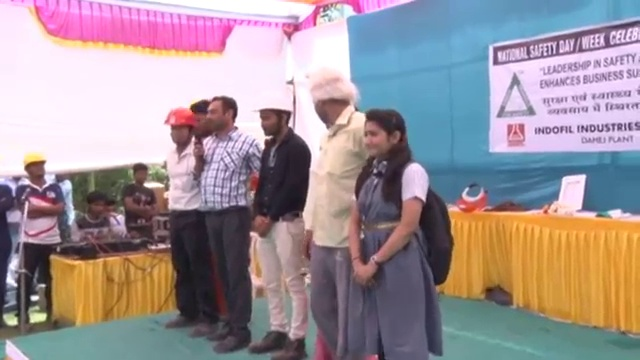helmet: (251, 93, 294, 115), (160, 105, 198, 129), (24, 150, 50, 174)
helmet_off: (352, 109, 411, 172), (300, 68, 358, 129), (206, 98, 240, 135), (78, 190, 109, 222), (190, 99, 210, 138), (127, 164, 147, 190), (55, 170, 71, 185)
helmet_on: (251, 93, 295, 138), (160, 105, 197, 156), (23, 152, 48, 187)
person: (343, 110, 452, 360), (298, 67, 368, 360), (200, 94, 265, 350), (248, 94, 312, 348), (159, 104, 217, 343), (13, 148, 72, 333), (67, 188, 131, 244), (119, 163, 158, 228), (0, 183, 17, 330), (52, 170, 76, 240)
